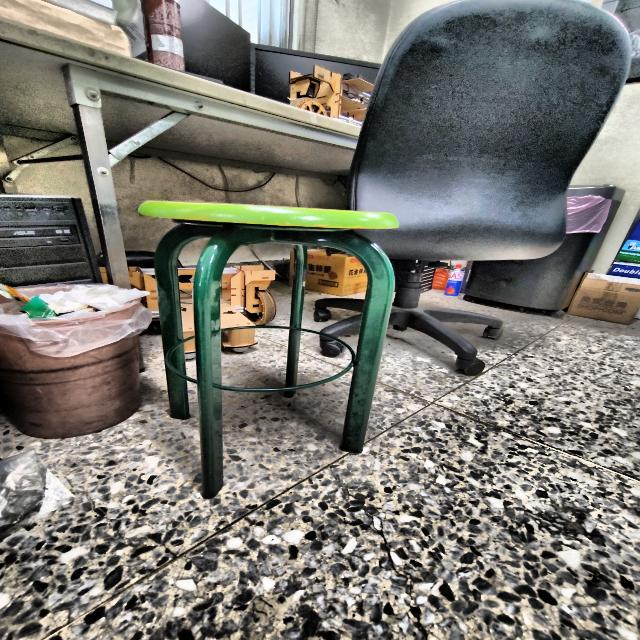cadeira: (300, 3, 638, 377), (126, 183, 385, 500)
